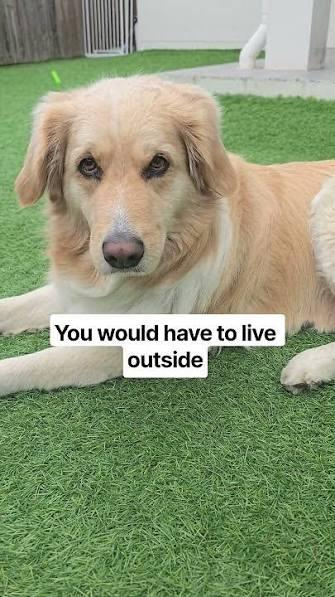adult_dog: (0, 76, 335, 400)
